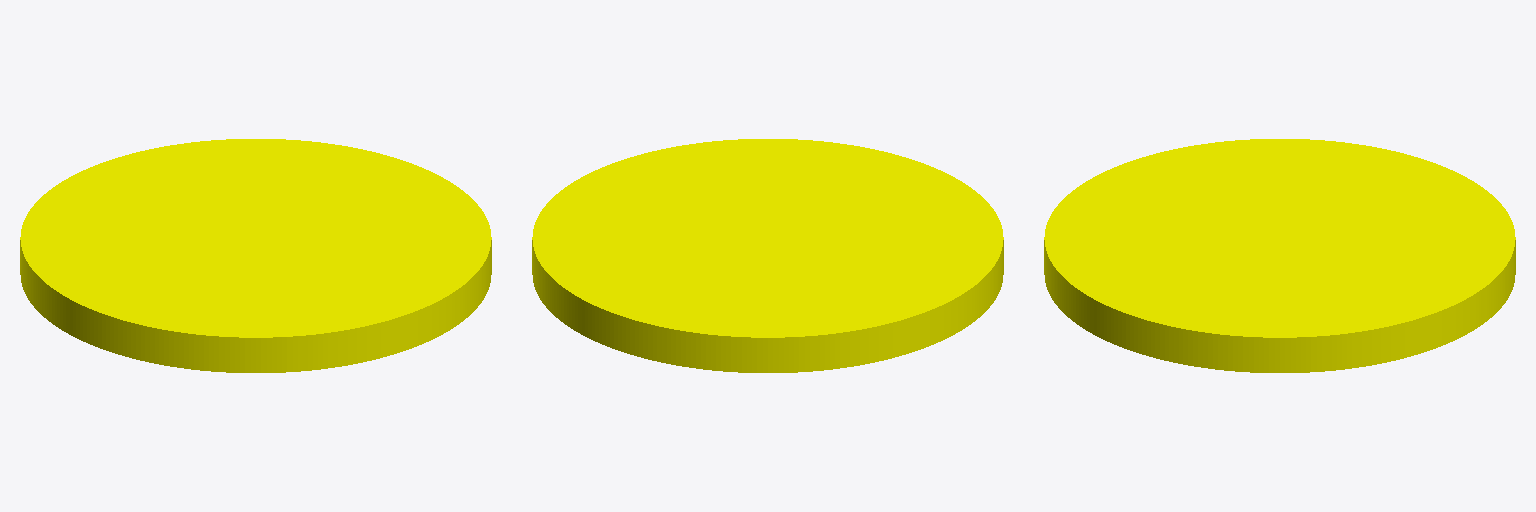
The robot description file, URDF, robot "cylinder":
<?xml version="1.0" ?>
<robot name="cylinder">
  <link name="cylinder_button">
    <inertial>
      <mass value="0.1"/>
      <origin rpy="0  0  0" xyz="0  0  0"/>
      <inertia ixx="0.0008175" ixy="0" ixz="0" iyy="0.0008175" iyz="0" izz="0.00162"/>
    </inertial>
    <collision name="cylinder_button_collision">
      <origin rpy="0  0  0" xyz="0  0  0"/>
      <geometry>
        <mesh filename="meshes/button.dae" scale="2.0 2.0 1.0"/>
      </geometry>
    </collision>
    <visual name="cylinder_button_visual">
      <origin rpy="0  0  0" xyz="0  0  0"/>
      <geometry>
        <mesh filename="meshes/button.dae" scale="2.0 2.0 1.0"/>
      </geometry>
      <material name="yellow">
        <color rgba="1 1 0 1"/>
      </material>
    </visual>
  </link>
</robot>

--- Facts derived from the render (not from the file) ---
Views: 3 orthographic renders of the robot side by side, from view 1: azimuth 30°, elevation 25°; view 2: azimuth 150°, elevation 25°; view 3: azimuth 270°, elevation 25°.
Model cylinder with 1 links and 0 joints (none), rooted at cylinder_button, posed all joints at 0.
Visible links, largest first — view 1: cylinder_button; view 2: cylinder_button; view 3: cylinder_button.
Boxes of the visible links, bbox=[...] form: cylinder_button: bbox=[20, 139, 491, 372]; cylinder_button: bbox=[532, 139, 1003, 372]; cylinder_button: bbox=[1044, 139, 1515, 372].
Bounding box of the posed robot: 0.36 × 0.36 × 0.03 m (x, y, z).
Meshes: 1 distinct files referenced, 1 mesh visuals loaded (1 Collada DAE).